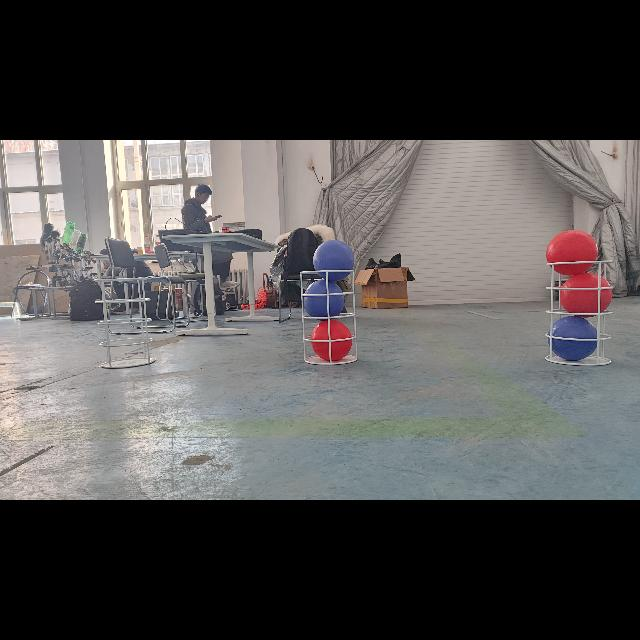B: (548, 315, 598, 361), (314, 240, 354, 282), (304, 280, 344, 320)
R: (546, 230, 600, 278), (560, 272, 612, 318), (311, 321, 354, 361)
S: (540, 258, 616, 370), (296, 266, 362, 370), (94, 272, 156, 372)
